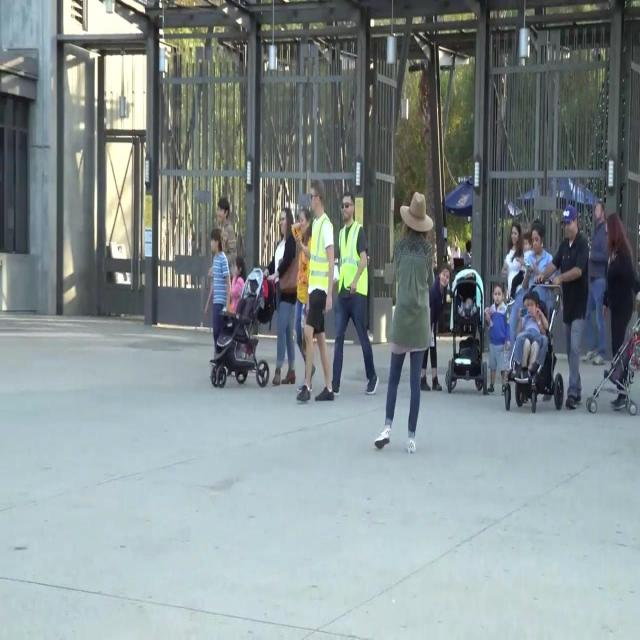Reflective-Jacket: (337, 218, 369, 300), (305, 213, 335, 300)
